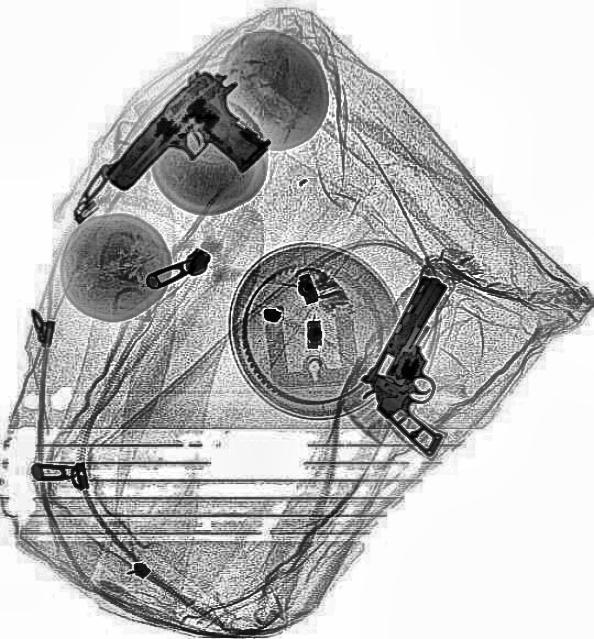Gun: (94, 55, 286, 244), (344, 267, 506, 456)
